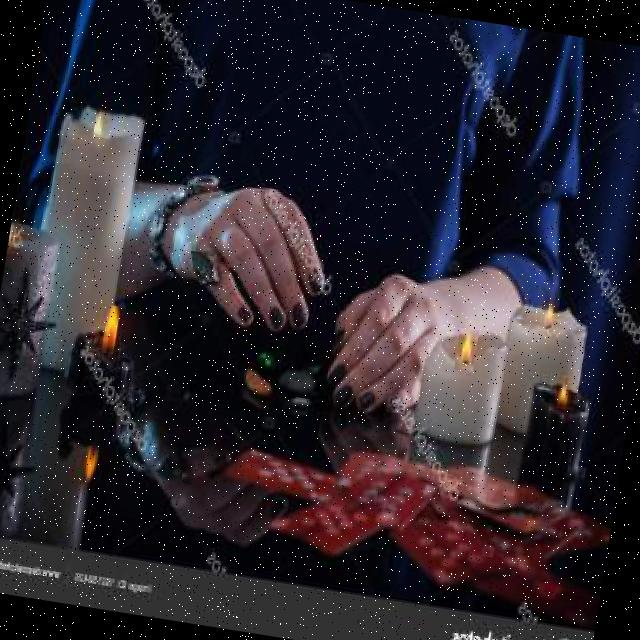fire: (454, 328, 479, 372), (102, 305, 120, 354), (553, 370, 575, 410), (93, 104, 115, 139), (540, 295, 556, 329)
